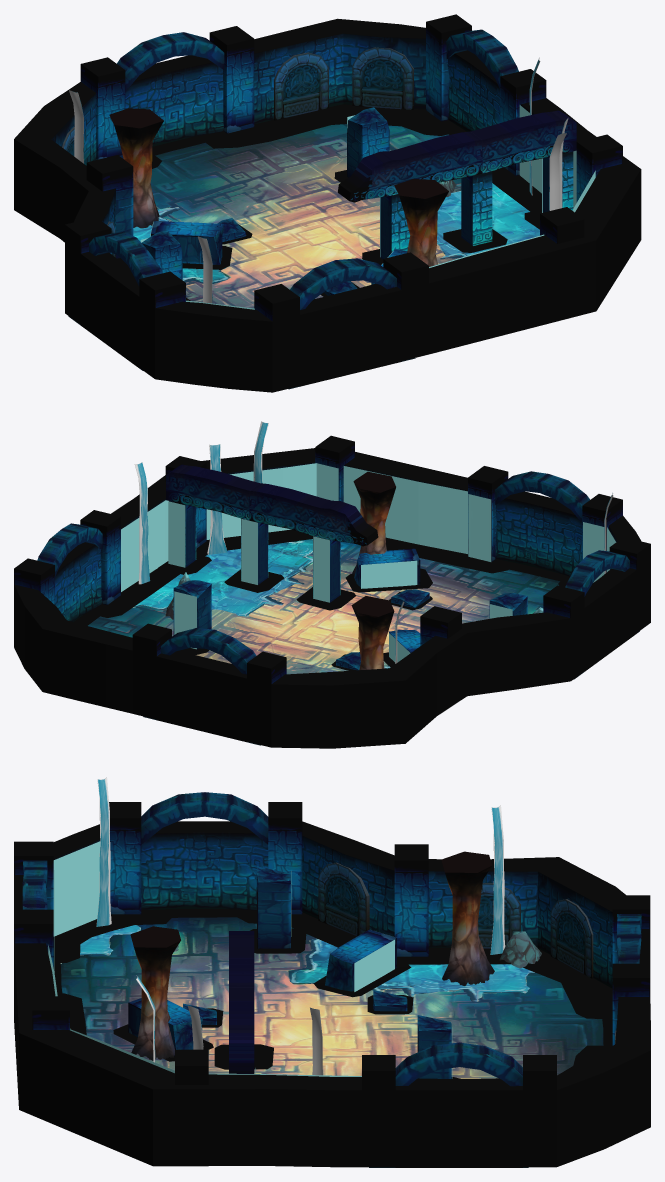
The model's file is Dungeon_051_Room_007.fbx.
3 renders of one model, top to bottom at view 1: azimuth 30°, elevation 25°; view 2: azimuth 150°, elevation 25°; view 3: azimuth 270°, elevation 25°, orthographic. The views are drawn at different scales.
Visible parts, largest first — view 1: Dun_051_Room_003_Wall, Dun_051_Room_003_Pillar_01, Dun_051_Room_003_Ground, Dun_051_Door_002 (×4), Dun_051_Room_003_Object_01, Dun_051_Door_002_Arch (×4), Dun_051_shadow, Dun_051_Room_003_Wallobject_01, Dungeon_011_Object_010 (×2), Dun_051_Room_003_GroundWater_01, Dun_051_Water01_Tak_A2, Dun_051_Room_003_GroundWater_01_Terikaeshi (+1 smaller); view 2: Dun_051_Room_003_Wall, Dun_051_Room_003_Pillar_01, Dun_051_Door_002 (×4), Dun_051_Room_003_GroundWater_01_Terikaeshi, Dun_051_Room_003_Ground, Dun_051_Room_003_Object_01, Dun_051_Door_002_Arch (×4), Dun_051_shadow, Dun_051_Room_003_GroundWater_01, Dungeon_011_Object_010 (×2), Dun_051_Water01_Tak_A1, Dun_011_Door_002_shadow; view 3: Dun_051_Room_003_Wall, Dun_051_Room_003_Ground, Dun_051_Room_003_Pillar_01, Dun_051_Door_002 (×2), Dun_051_shadow, Dun_051_Door_002_Arch (×4), Dungeon_011_Object_010 (×2), Dun_051_Room_003_Wallobject_01, Dun_051_Room_003_GroundWater_01_Terikaeshi, Dun_051_Room_003_GroundWater_01, Dun_051_Room_003_Object_01, Dun_051_Water01_Tak_A1 (+3 smaller).
Boxes of the visible parts, x1,y1,x2,y2 form: Dun_051_Room_003_Wall: (14,18,641,392); Dun_051_Room_003_Pillar_01: (65,14,622,392); Dun_051_Room_003_Ground: (68,124,461,389); Dun_051_Door_002 (×4): (80,50,500,386); Dun_051_Room_003_Object_01: (337,110,576,259); Dun_051_Door_002_Arch (×4): (89,29,518,309); Dun_051_shadow: (117,104,541,300); Dun_051_Room_003_Wallobject_01: (62,47,413,257); Dungeon_011_Object_010 (×2): (109,108,448,266); Dun_051_Room_003_GroundWater_01: (133,183,539,284); Dun_051_Water01_Tak_A2: (69,58,568,303); Dun_051_Room_003_GroundWater_01_Terikaeshi: (140,105,595,309); Dun_051_Room_003_Wall: (14,448,641,748); Dun_051_Room_003_Pillar_01: (14,435,650,747); Dun_051_Door_002 (×4): (55,491,636,742); Dun_051_Room_003_GroundWater_01_Terikaeshi: (121,463,616,662); Dun_051_Room_003_Ground: (88,542,639,745); Dun_051_Room_003_Object_01: (166,464,378,602); Dun_051_Door_002_Arch (×4): (37,471,629,674); Dun_051_shadow: (100,529,566,670); Dun_051_Room_003_GroundWater_01: (133,539,390,668); Dungeon_011_Object_010 (×2): (351,471,395,670); Dun_051_Water01_Tak_A1: (135,421,612,663); Dun_011_Door_002_shadow: (496,559,569,582); Dun_051_Room_003_Wall: (14,821,650,1167); Dun_051_Room_003_Ground: (60,917,603,1167); Dun_051_Room_003_Pillar_01: (14,802,650,1167); Dun_051_Door_002 (×2): (141,821,522,1167); Dun_051_shadow: (53,910,612,1166); Dun_051_Door_002_Arch (×4): (22,792,641,1086); Dungeon_011_Object_010 (×2): (130,851,494,1060); Dun_051_Room_003_Wallobject_01: (318,862,616,1043); Dun_051_Room_003_GroundWater_01_Terikaeshi: (48,841,452,1078); Dun_051_Room_003_GroundWater_01: (60,925,534,1074); Dun_051_Room_003_Object_01: (229,931,254,1073); Dun_051_Water01_Tak_A1: (96,777,505,1073).
Size of what is drawn, in the model's own units: 15 by 5.32 by 15.02.
